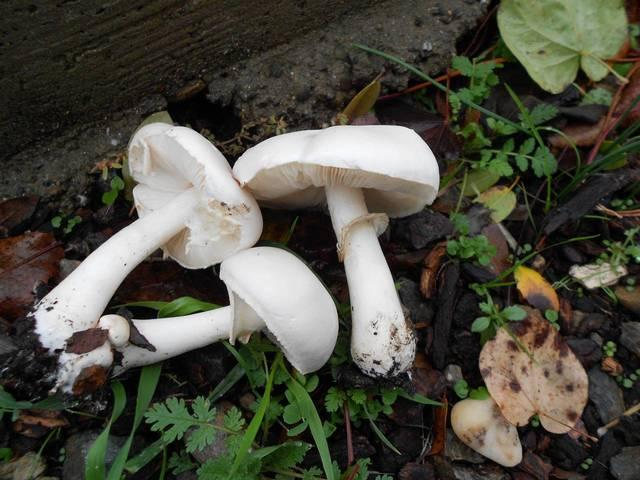poisonous_mushroom: (44, 96, 313, 402), (230, 122, 441, 379)
